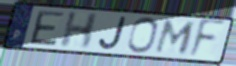E: (29, 10, 67, 47)
F: (186, 17, 228, 61)
H: (58, 11, 102, 51)
J: (97, 15, 128, 51)
M: (153, 18, 199, 55)
O: (125, 16, 160, 55)
